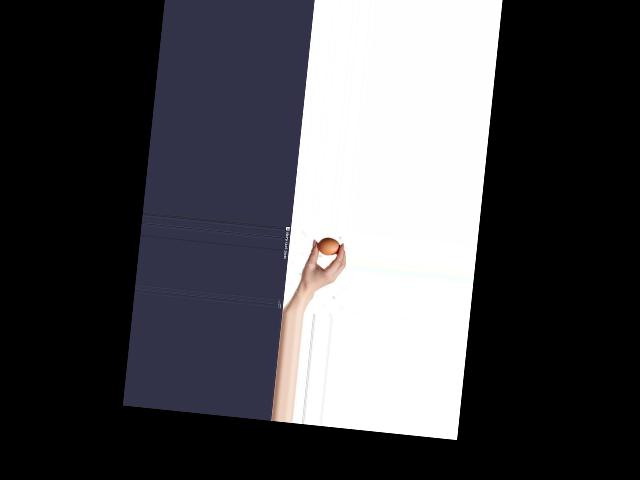egg: (316, 236, 340, 257)
